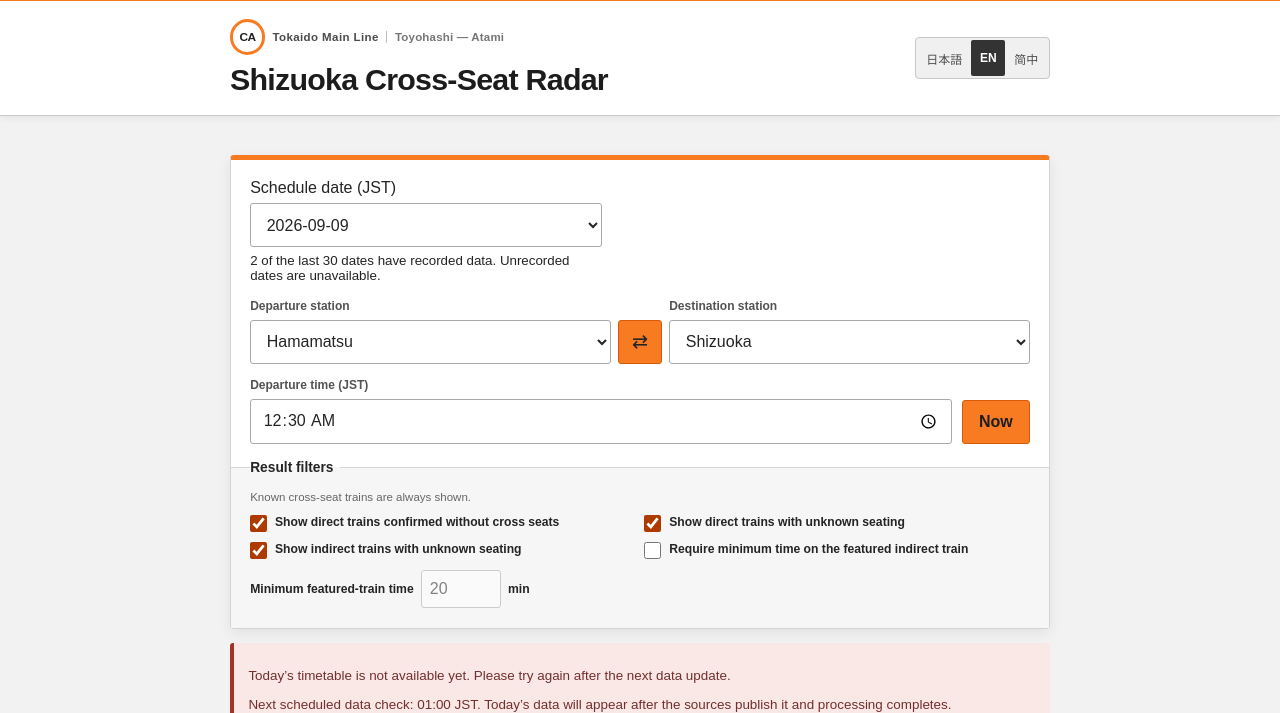
Test: uses distinct next-check copy and preserves inputs when choosing history or unavailable today
The image size is (1280, 713).
Expected: the text "2 of the last 30 dates have recorded data. Unrecorded dates are unavailable." is shown, left=250, top=254, right=602, bottom=284
Expected: the text "Next scheduled data check: 01:00 JST" is shown, left=248, top=697, right=952, bottom=712
Replace the text in the time field labelled "Departure time (JST)" with "05:00". click: coordinates (601, 421)
box: left=250, top=399, right=952, bottom=444
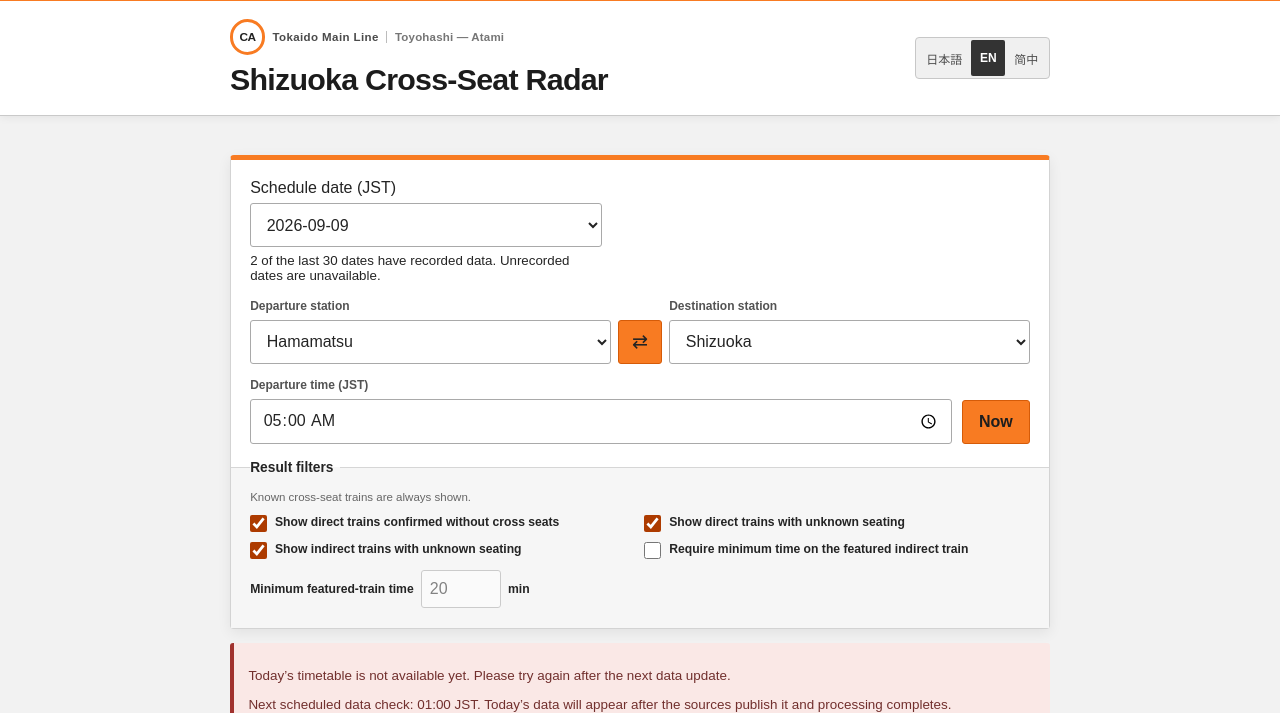
Select "2026-09-08" in the dropdown labelled "Schedule date (JST)". click: coordinates (426, 225)
box: left=250, top=203, right=602, bottom=247
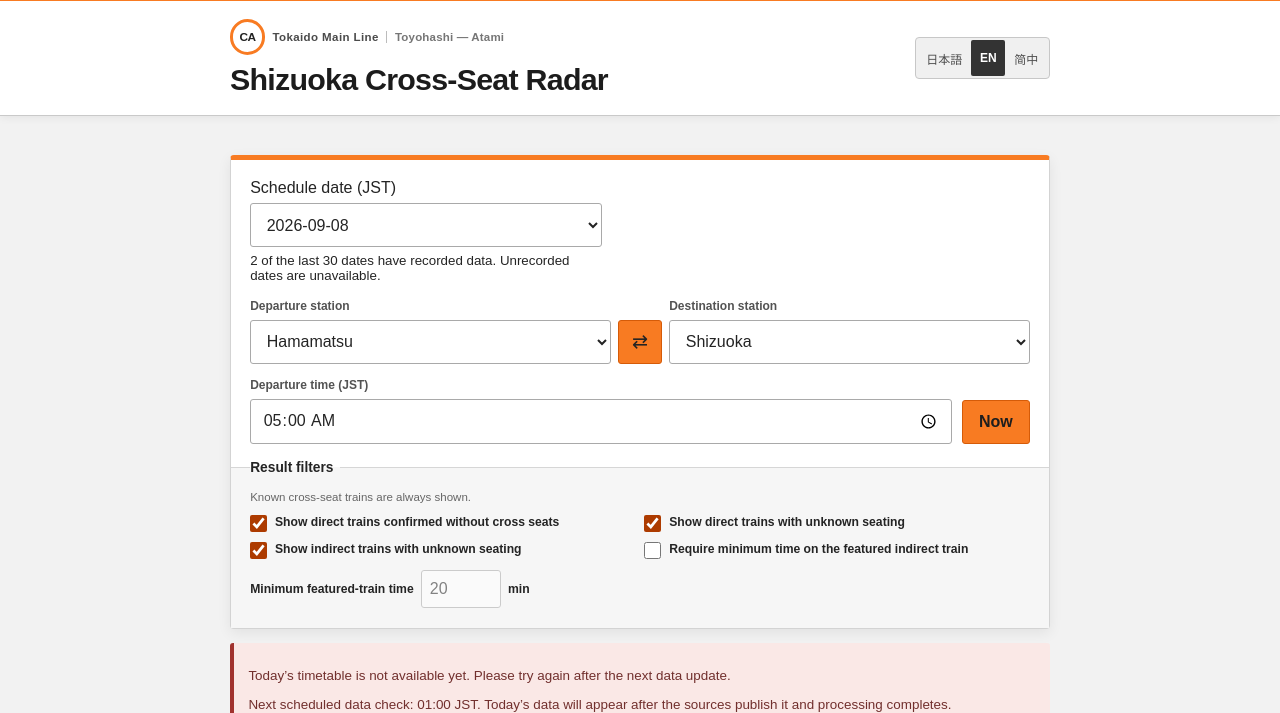
Select "2026-09-10 · Today" in the dropdown labelled "Schedule date (JST)". click: coordinates (426, 225)
box: left=250, top=203, right=602, bottom=247
(page scrolled)
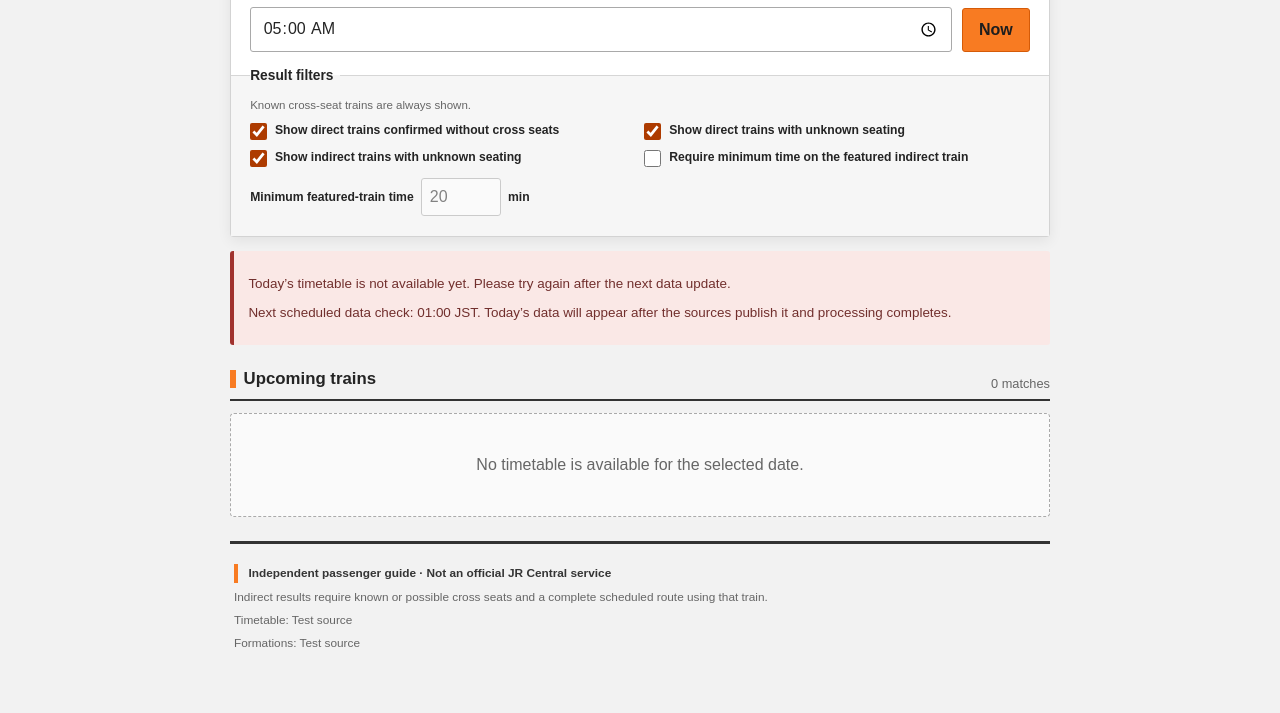
Now the text "No timetable is available for the selected date." is shown, box left=230, top=414, right=1050, bottom=517
